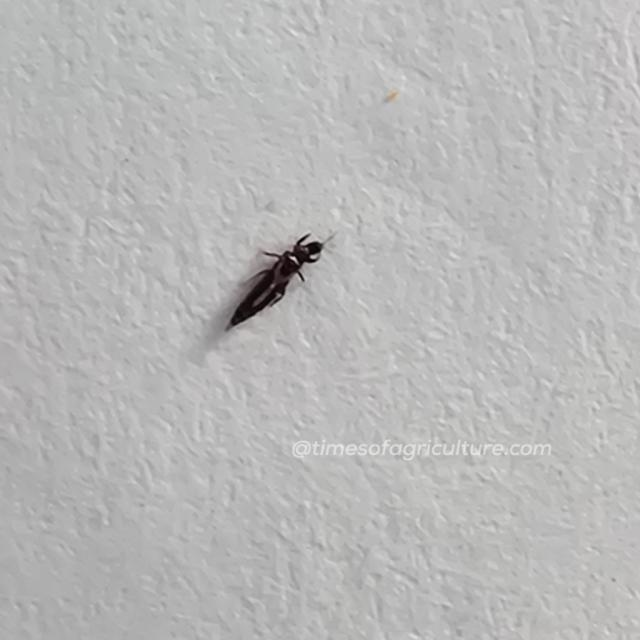Thrip-Adult-: (218, 224, 335, 334)
